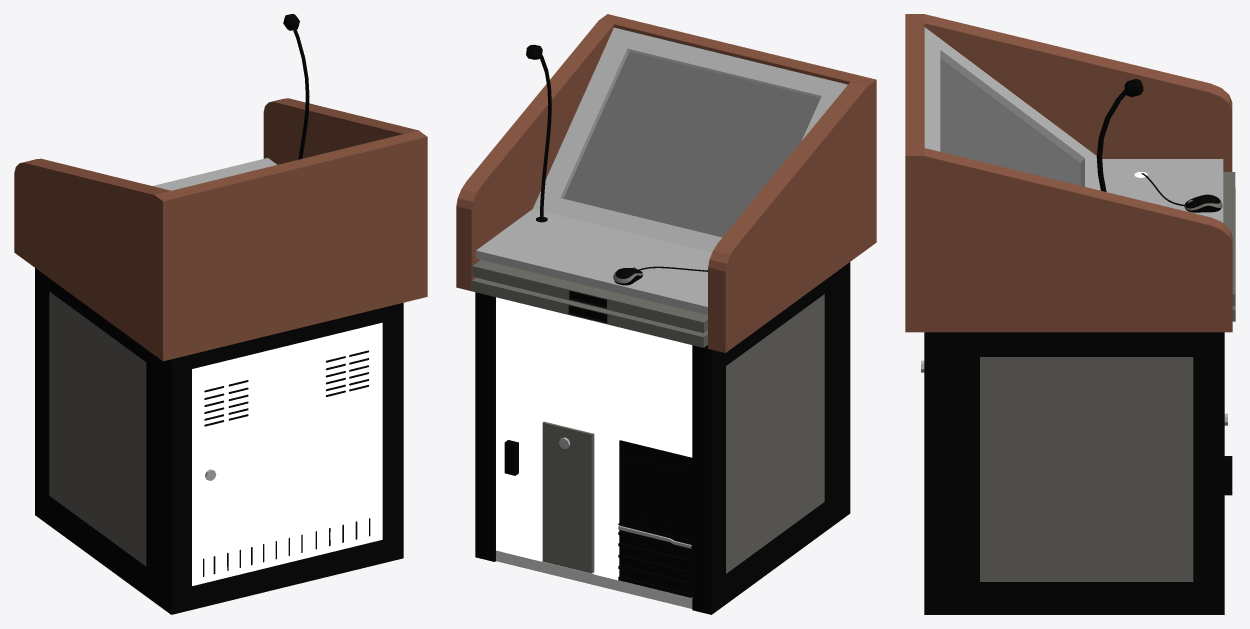
The model's file is podium.glb.
3 views of the same model, side by side, from view 1: azimuth 30°, elevation 25°; view 2: azimuth 150°, elevation 25°; view 3: azimuth 270°, elevation 25° (orthographic). The views are drawn at different scales.
Visible parts, largest first — view 1: 立方體.020, 立方體.027, 立方體.021, 立方體.023, 立方體.026, 立方體.025, 圓形.026, 立方體.030, BezierCurve.001; view 2: 立方體.033, 立方體.021, 立方體.029, 立方體.026, 立方體.030, 立方體.025, Cube.001, Cube.002, 立方體.022, 立方體.020, 立方體.032, 立方體.031 (+3 smaller); view 3: 立方體.022, 立方體.025, 立方體.026, 立方體.033, 立方體.023, 立方體.020, 立方體.030, 立方體.032, BezierCurve.001, Wheel.
Part boxes in pixels (left/top/right/bottom): 立方體.020: left=154, top=130, right=427, bottom=361; 立方體.027: left=192, top=322, right=382, bottom=585; 立方體.021: left=35, top=268, right=160, bottom=606; 立方體.023: left=160, top=302, right=403, bottom=614; 立方體.026: left=14, top=158, right=170, bottom=354; 立方體.025: left=263, top=98, right=417, bottom=164; 圓形.026: left=203, top=350, right=370, bottom=576; 立方體.030: left=153, top=158, right=277, bottom=190; BezierCurve.001: left=290, top=16, right=309, bottom=159; 立方體.033: left=533, top=27, right=847, bottom=252; 立方體.021: left=692, top=270, right=839, bottom=614; 立方體.029: left=496, top=297, right=692, bottom=580; 立方體.026: left=708, top=82, right=867, bottom=352; 立方體.030: left=476, top=209, right=711, bottom=314; 立方體.025: left=456, top=20, right=613, bottom=291; Cube.001: left=618, top=440, right=692, bottom=597; Cube.002: left=542, top=421, right=594, bottom=573; 立方體.022: left=475, top=292, right=495, bottom=561; 立方體.020: left=599, top=14, right=876, bottom=248; 立方體.032: left=472, top=260, right=707, bottom=333; 立方體.031: left=472, top=277, right=707, bottom=347; 立方體.022: left=948, top=332, right=1224, bottom=614; 立方體.025: left=924, top=148, right=1232, bottom=332; 立方體.026: left=924, top=14, right=1232, bottom=171; 立方體.033: left=924, top=27, right=1100, bottom=190; 立方體.023: left=924, top=332, right=948, bottom=614; 立方體.020: left=905, top=14, right=924, bottom=332; 立方體.030: left=1102, top=159, right=1223, bottom=222; 立方體.032: left=1223, top=172, right=1235, bottom=305; BezierCurve.001: left=1096, top=80, right=1133, bottom=191; Wheel: left=1184, top=194, right=1222, bottom=212.
Size of the model in its own units: 52.4 by 90.39 by 51.51.
